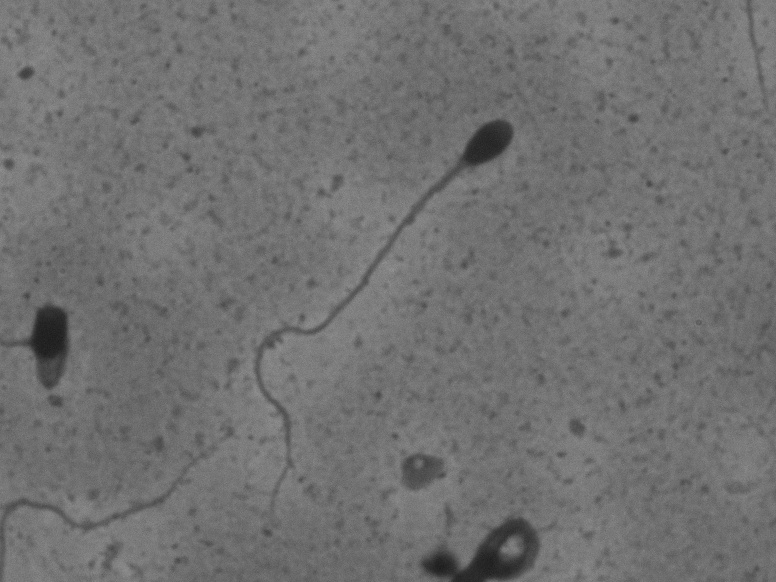Normal: (210, 94, 536, 511)
